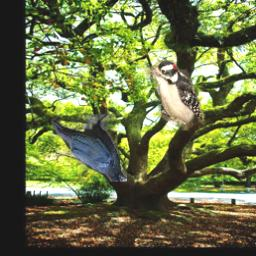Crow: (52, 114, 127, 182)
Woodpecker: (147, 61, 205, 132)
